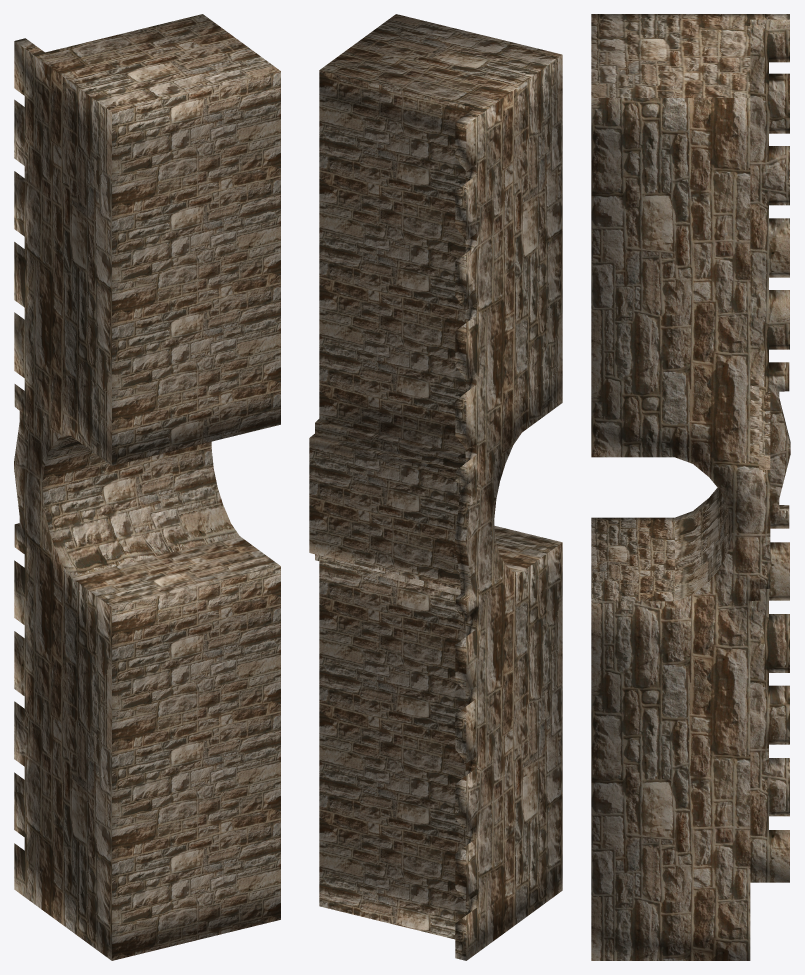
Rendered from wall main textured.fbx.
The picture shows the model from 3 angles, left to right: view 1: azimuth 30°, elevation 25°; view 2: azimuth 150°, elevation 25°; view 3: azimuth 270°, elevation 25°; orthographic projection. The views are drawn at different scales.
Visible parts, largest first — view 1: mainSection; view 2: mainSection; view 3: mainSection.
Boxes of the visible parts, x1,y1,x2,y2 form: mainSection: [14, 14, 280, 960]; mainSection: [309, 14, 562, 960]; mainSection: [591, 14, 790, 960].
Size of the model in its own units: 5 by 24 by 5.02.
